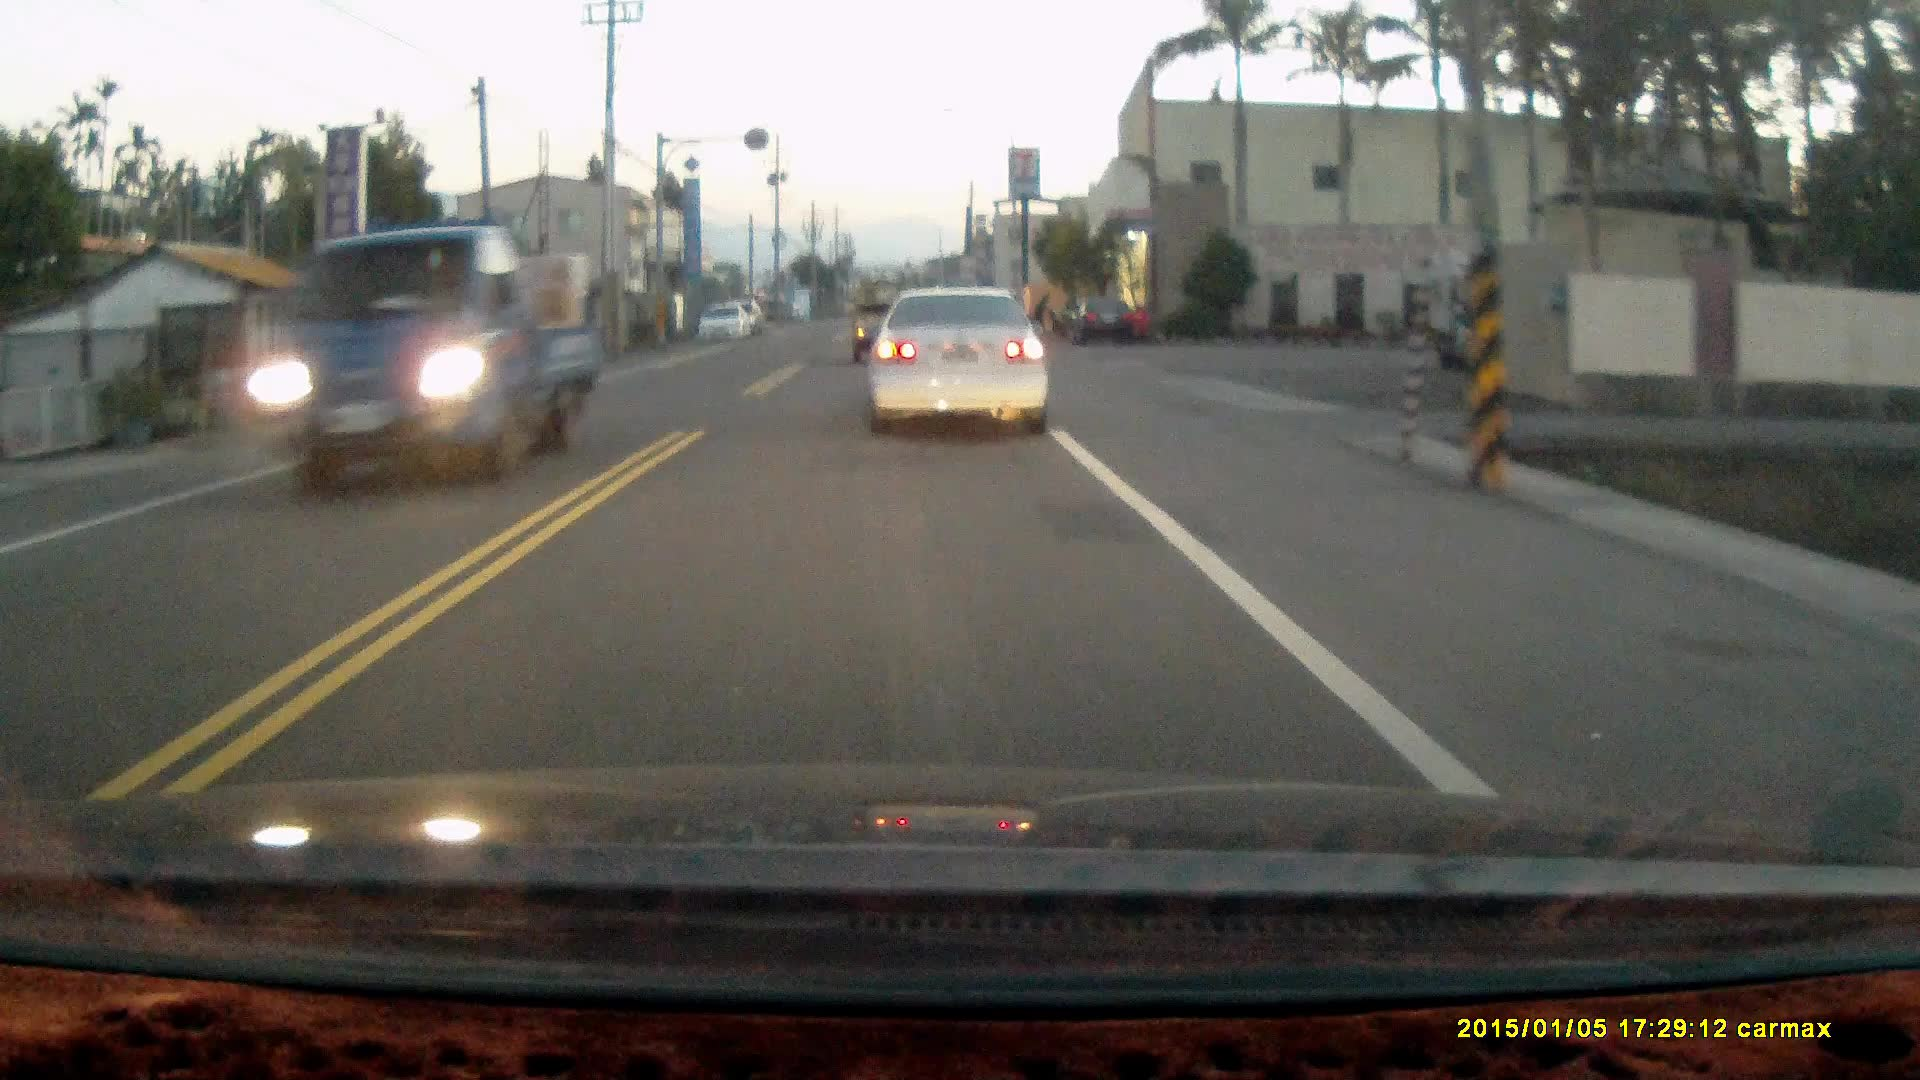rider: (1021, 290, 1063, 339)
vehicle: (243, 224, 606, 490), (875, 284, 1056, 436), (852, 275, 926, 363), (1068, 288, 1136, 343), (700, 303, 752, 346)
